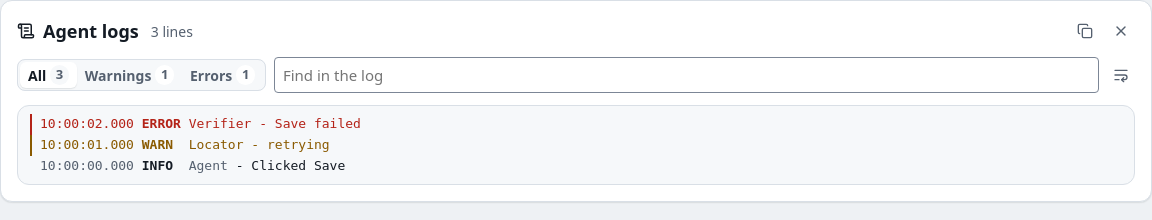
it: LogTail filters › says so when no line matches
The width and height of the screenshot is (1152, 220).
In the search field labelled "Find in the log": (686, 75) top-left (274, 57), bottom-right (1099, 93), type "nothing"
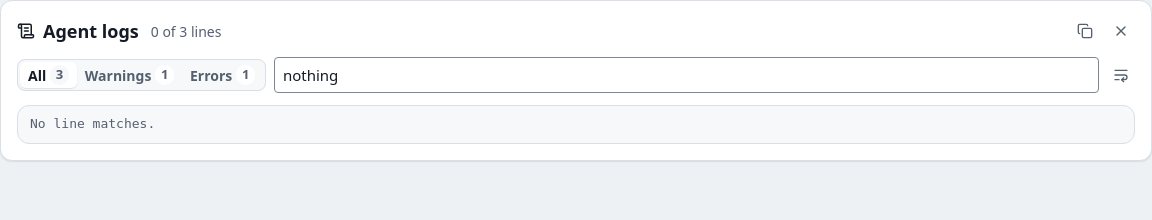
Check: the text "No line matches." is shown, box top-left (30, 116), bottom-right (155, 131)
